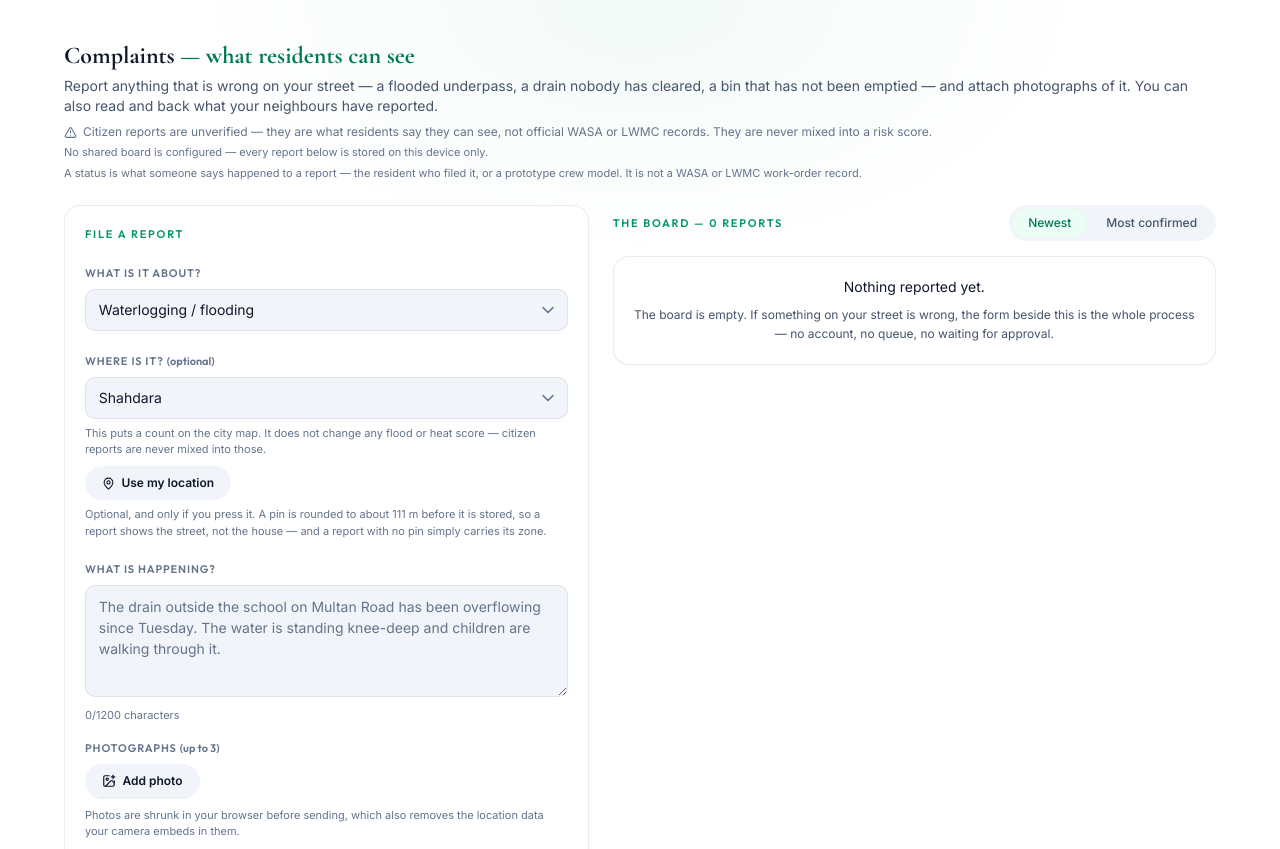
Test: ComplaintsView — the pin is opt-in, and never exact › hands the snapped pin to the board, not the raw fix
This screenshot has width=1280, height=849.
Click the button "Use my location" at (158, 483), box [85,466,231,500]
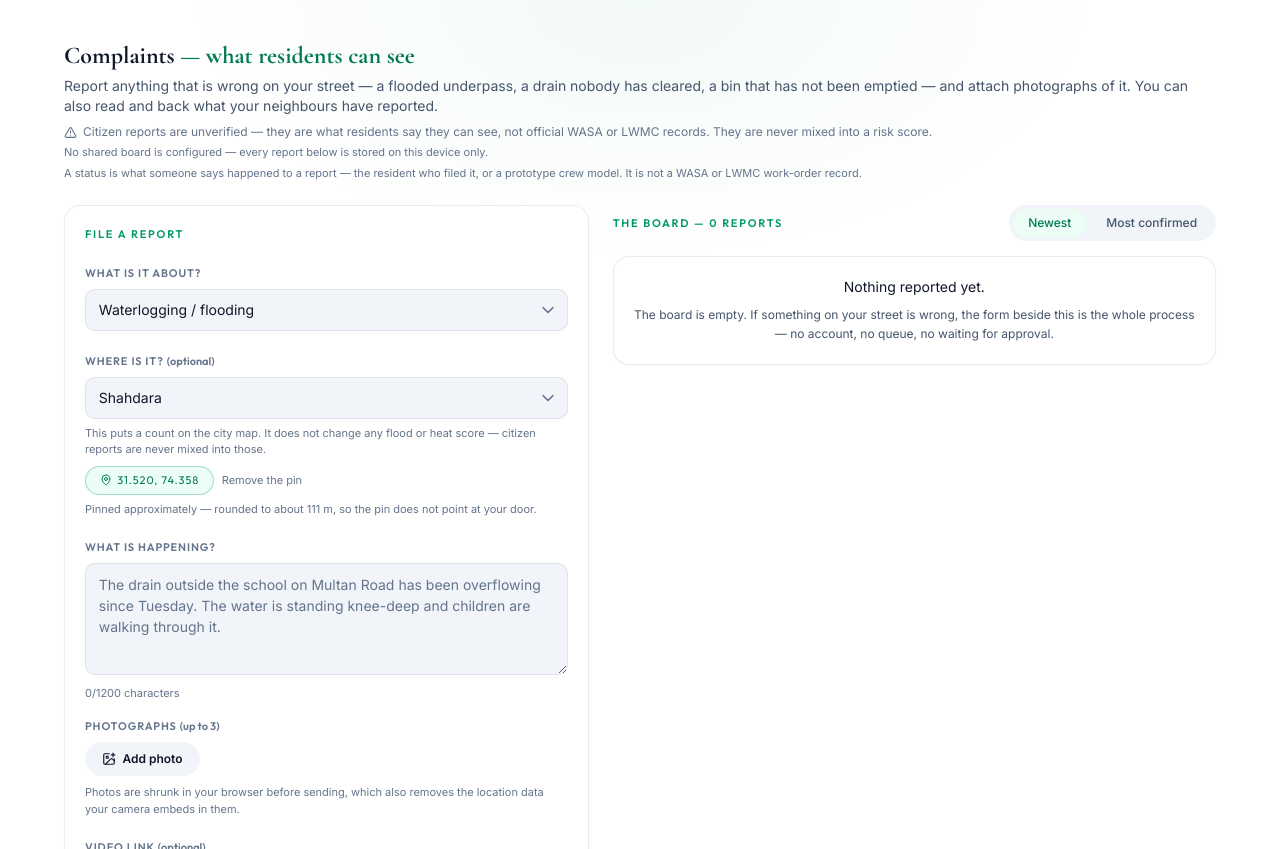
Replace the text in the text box labelled "What is happening?" with "The drain is blocked and overflowing." at (326, 619), box [85,563,568,675]
(page scrolled)
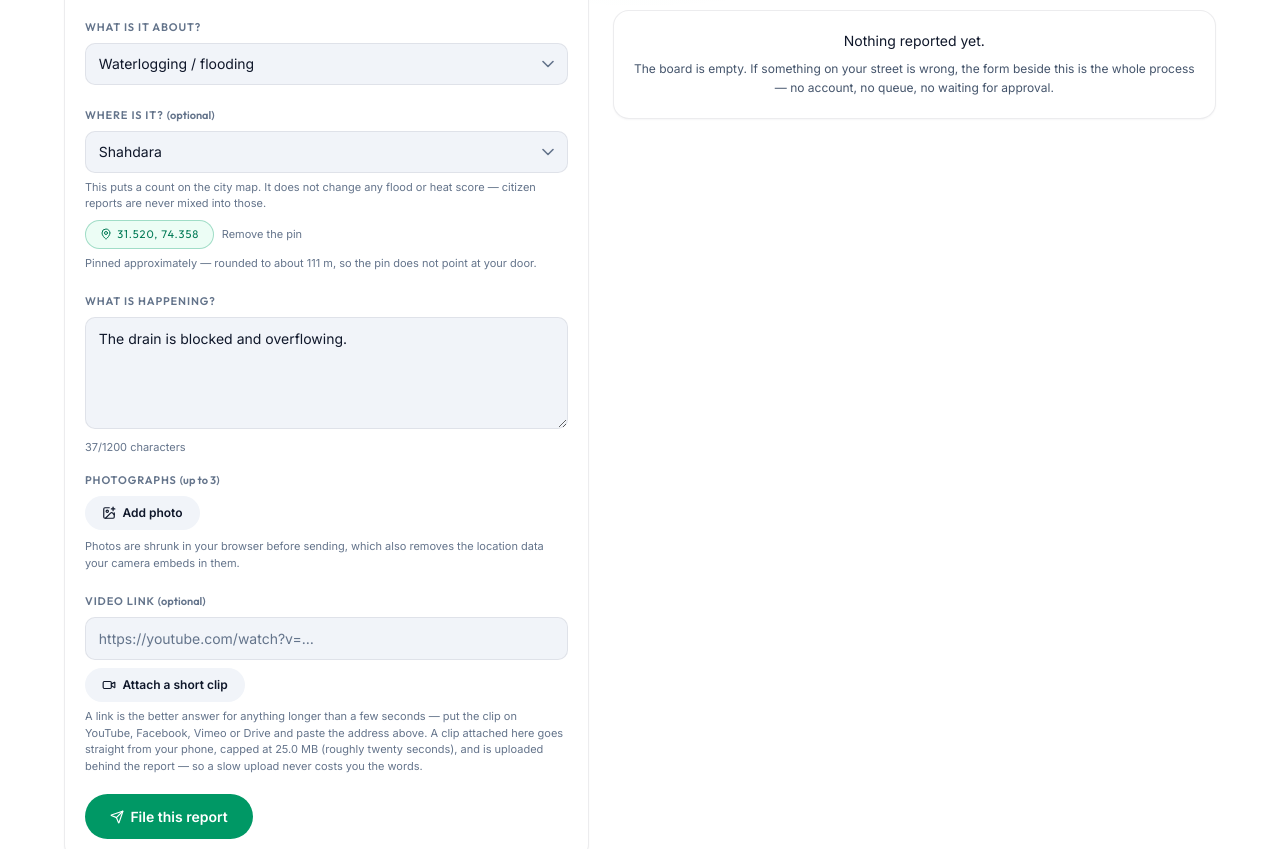
Click the button "File this report" at (169, 817), box [85,794,253,839]
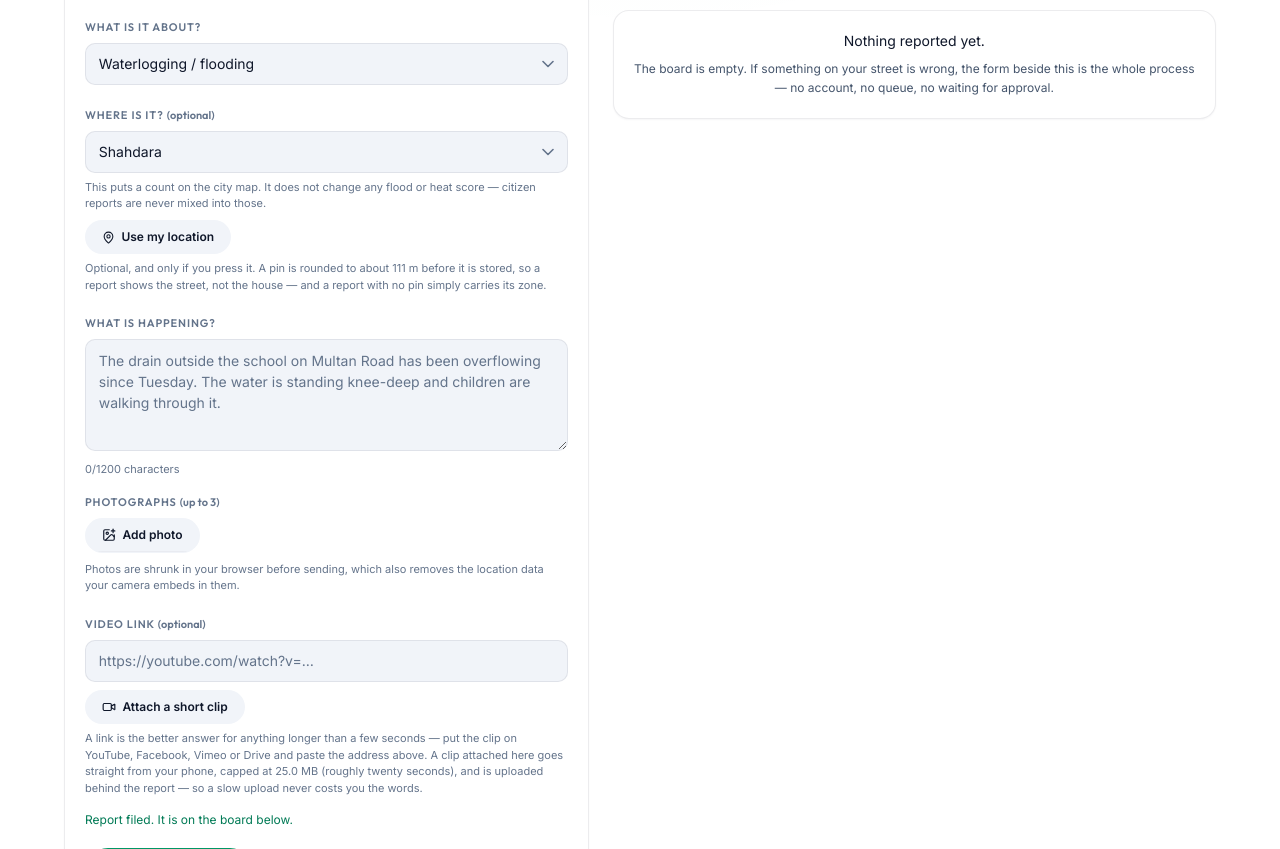
Result: the text "Report filed. It is on the board below." is shown at [85,812,293,827]
